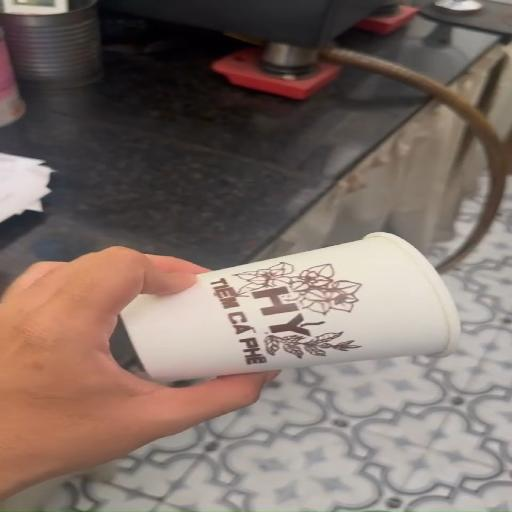Ly_giay: (122, 233, 458, 380)
